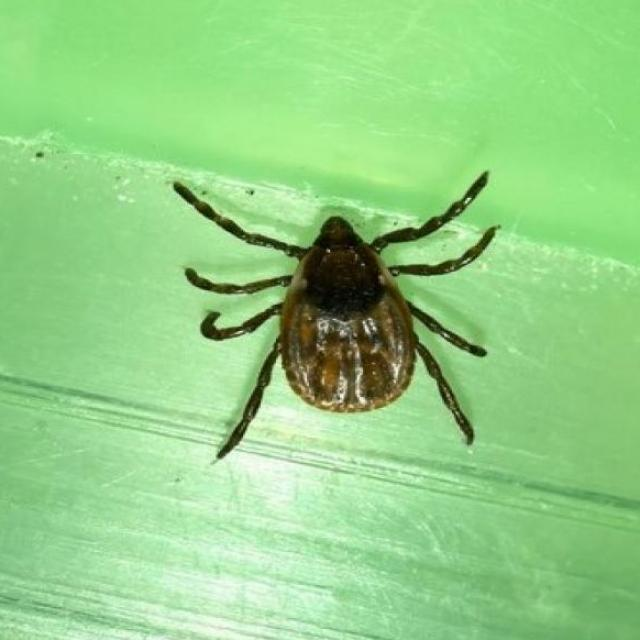Rhipicephalus Sanguineus-F: (174, 171, 498, 460)
